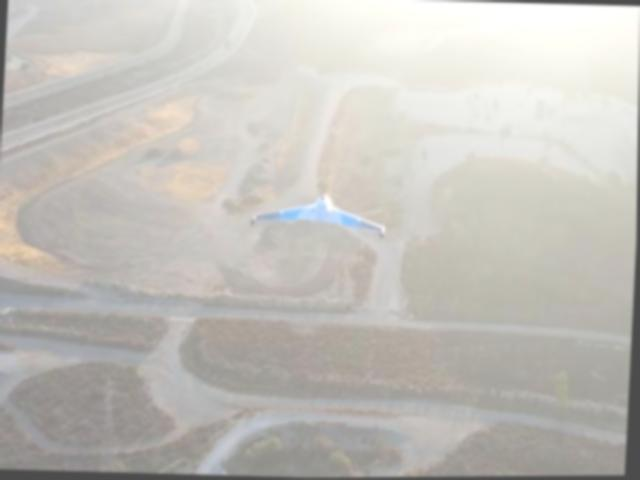iha: (252, 187, 384, 240)
